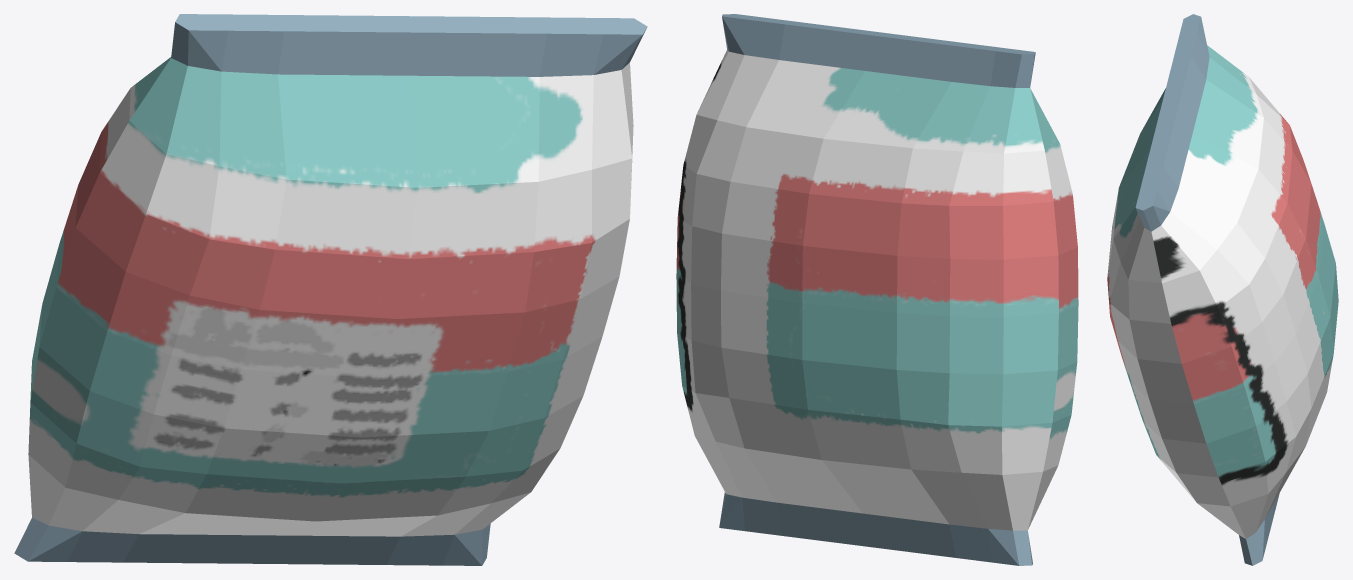
Rendered from Snack.Chip.fbx.
The picture shows the model from 3 angles, left to right: view 1: azimuth 30°, elevation 25°; view 2: azimuth 150°, elevation 25°; view 3: azimuth 270°, elevation 25°; orthographic projection. The views are drawn at different scales.
Parts seen in each view (by area): view 1: Snack.Chip; view 2: Snack.Chip; view 3: Snack.Chip.
Part boxes in pixels (x1,y1,x2,y2): Snack.Chip: (14, 14, 647, 565); Snack.Chip: (676, 14, 1078, 565); Snack.Chip: (1107, 14, 1338, 565).
Size of the model in its own units: 117 by 140 by 67.2.
